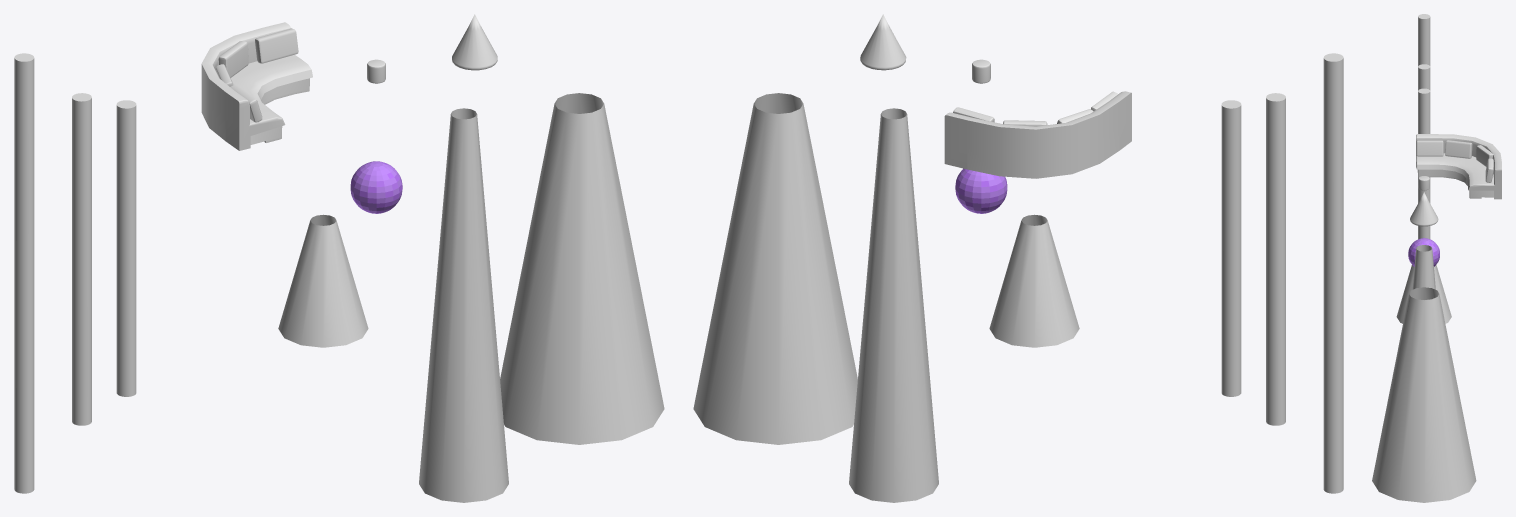
Rendered from niv2.fbx.
The picture shows the model from 3 angles, left to right: view 1: azimuth 30°, elevation 25°; view 2: azimuth 150°, elevation 25°; view 3: azimuth 270°, elevation 25°; orthographic projection. The views are drawn at different scales.
Parts seen in each view (by area): view 1: pCylinder3, pCylinder2, pCylinder6, pCylinder1, pCube3, pCylinder4, pCylinder5, pSphere1, pCone1, pCube7, pCube6; view 2: pCylinder3, pCylinder2, pCube3, pCylinder6, pCylinder1, pCylinder4, pCylinder5, pSphere1, pCone1; view 3: pCylinder3, pCube3, pCylinder5, pCylinder2, pCylinder1, pCylinder6, pCone1, pCube4, pCube5, pSphere1, pCylinder4, pCube6 (+2 smaller).
Part boxes in pixels (box(x1,y1,x2,y2)): pCylinder3: box(500, 93, 664, 444); pCylinder2: box(419, 108, 508, 502); pCylinder6: box(14, 53, 34, 493); pCylinder1: box(278, 214, 368, 347); pCube3: box(201, 22, 312, 150); pCylinder4: box(72, 93, 91, 425); pCylinder5: box(116, 100, 136, 396); pSphere1: box(350, 161, 402, 213); pCone1: box(452, 14, 497, 70); pCube7: box(255, 28, 298, 63); pCube6: box(218, 41, 248, 77); pCylinder3: box(693, 93, 857, 444); pCylinder2: box(849, 108, 938, 502); pCube3: box(944, 91, 1131, 178); pCylinder6: box(1323, 53, 1343, 493); pCylinder1: box(989, 214, 1079, 347); pCylinder4: box(1266, 93, 1285, 425); pCylinder5: box(1221, 100, 1241, 396); pSphere1: box(955, 168, 1007, 213); pCone1: box(860, 14, 906, 70); pCylinder3: box(1372, 287, 1476, 502); pCube3: box(1416, 134, 1501, 199); pCylinder5: box(1418, 88, 1430, 239); pCylinder2: box(1412, 245, 1435, 289); pCylinder1: box(1396, 265, 1451, 323); pCylinder6: box(1418, 14, 1430, 66); pCone1: box(1410, 192, 1438, 226); pCube4: box(1416, 140, 1443, 156); pCube5: box(1445, 140, 1472, 158); pSphere1: box(1408, 238, 1439, 266); pCylinder4: box(1418, 64, 1430, 90); pCube6: box(1476, 145, 1493, 166).
Size of the model in its own units: 27.93 by 22.34 by 8.05.
